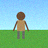person: (13, 12, 29, 39)
